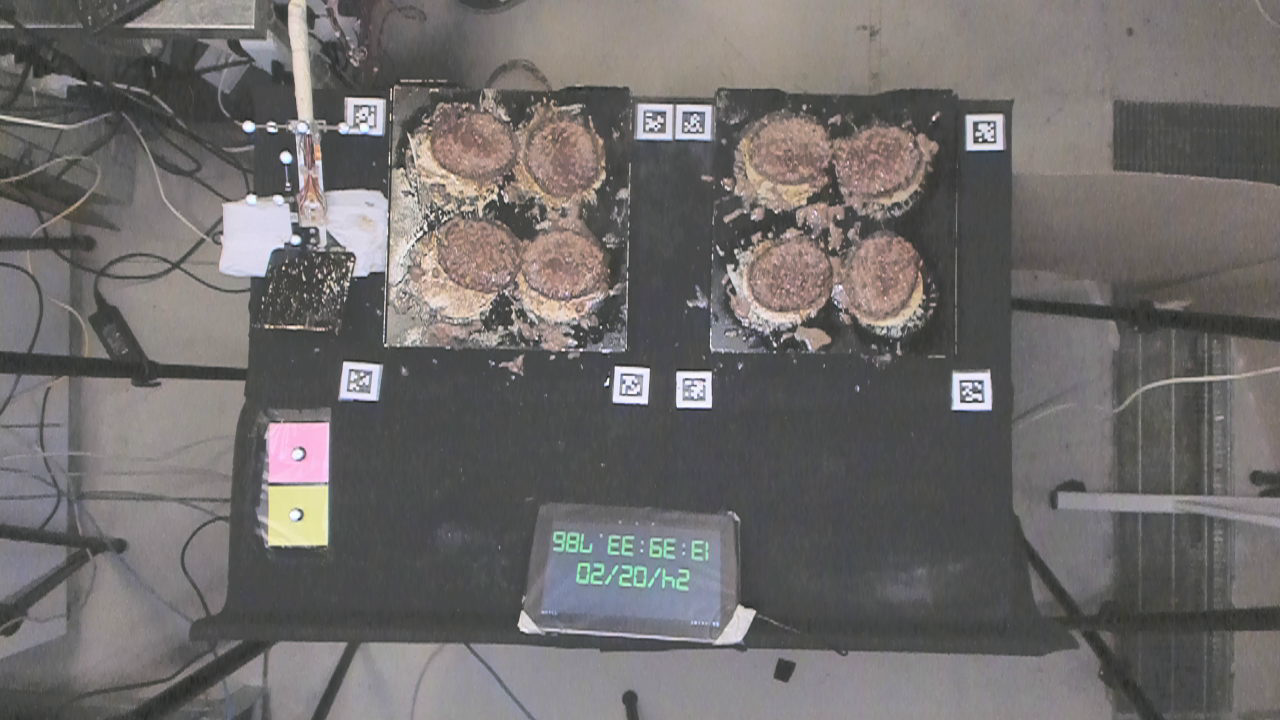hamburger: (742, 241, 833, 318), (846, 235, 922, 327), (744, 114, 833, 189), (525, 234, 610, 305), (433, 222, 519, 292), (835, 133, 922, 200), (527, 125, 604, 195), (427, 107, 511, 169)
marker: (265, 419, 332, 484)
